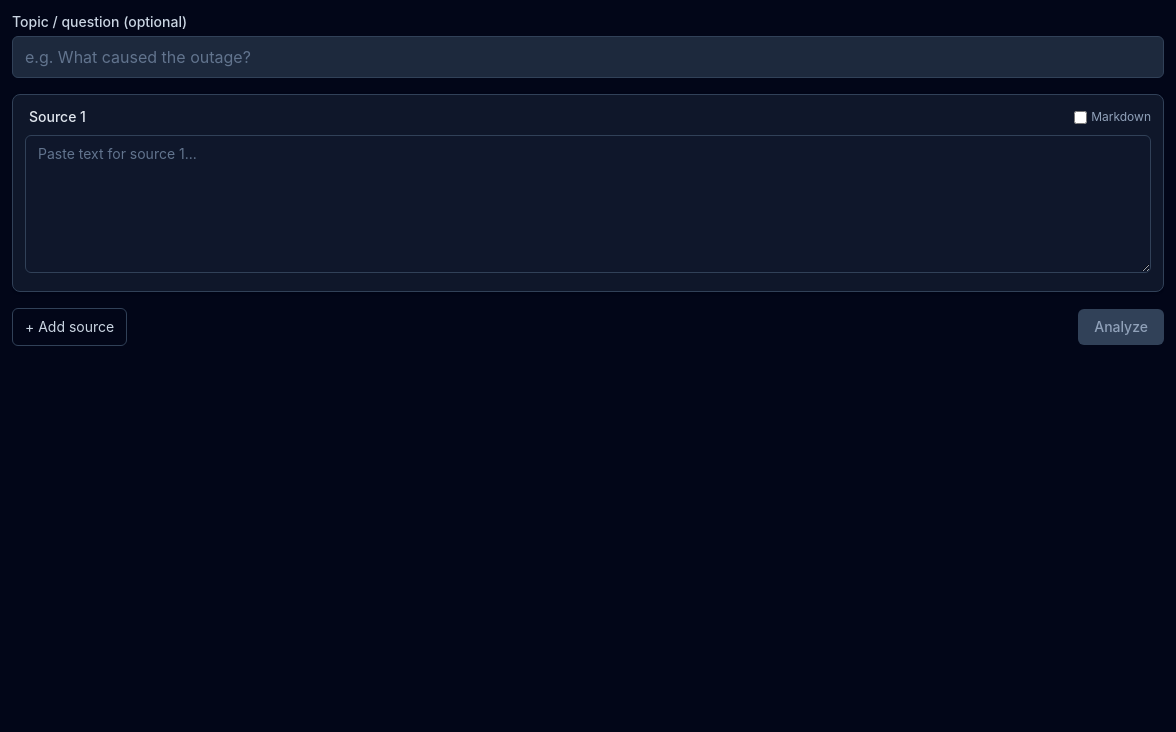
SourceEditor › removes a source block
This screenshot has width=1176, height=732.
Step 1. Click the button "+ Add source" → (70, 327), box [12,308,127,346]
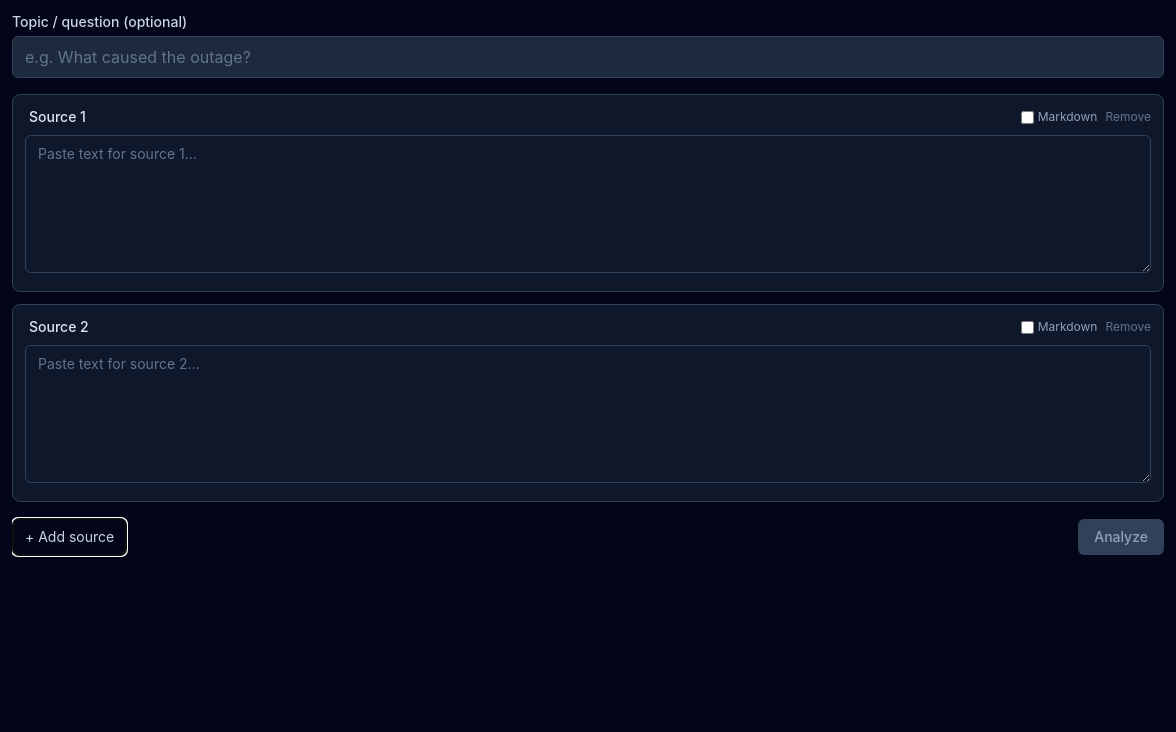
Expected: the number of text boxes with placeholder "Paste text for source 1..." is 2, [25,135,1151,273]; [25,345,1151,483]
Step 2. Click the 1st button "Remove" → (1128, 117), box [1106,109,1151,125]
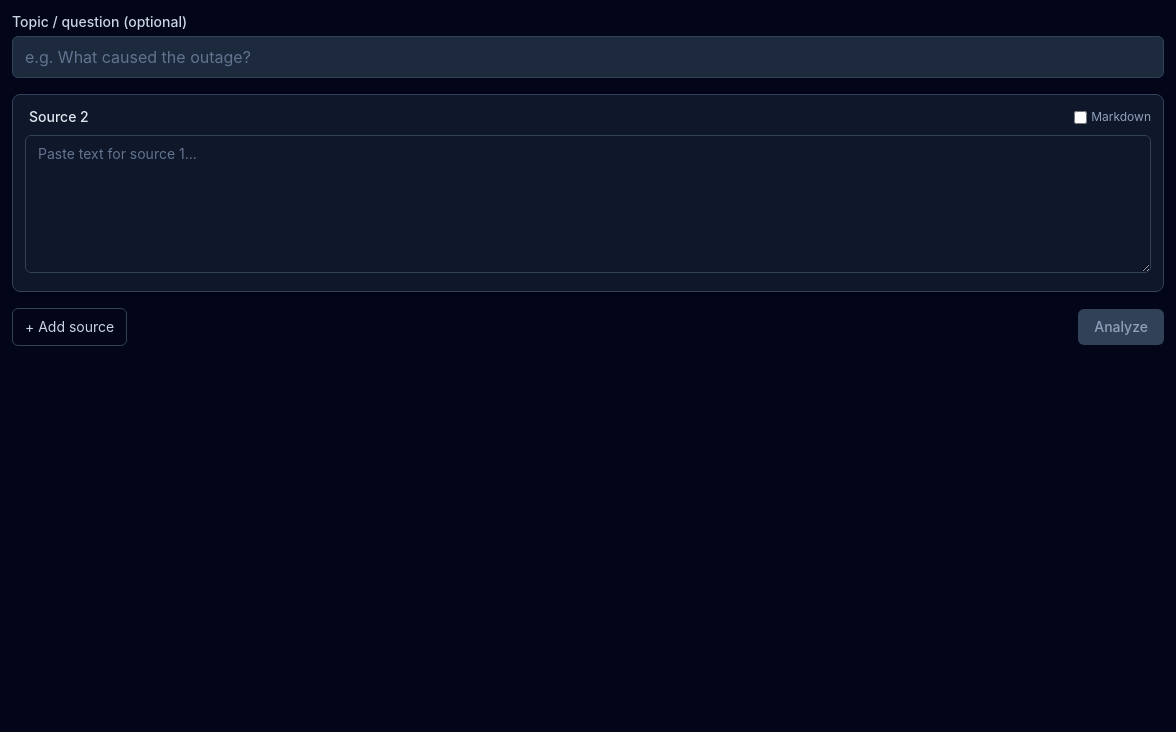
Expected: the number of text boxes with placeholder "Paste text for source 1..." is 1, [25,135,1151,273]
